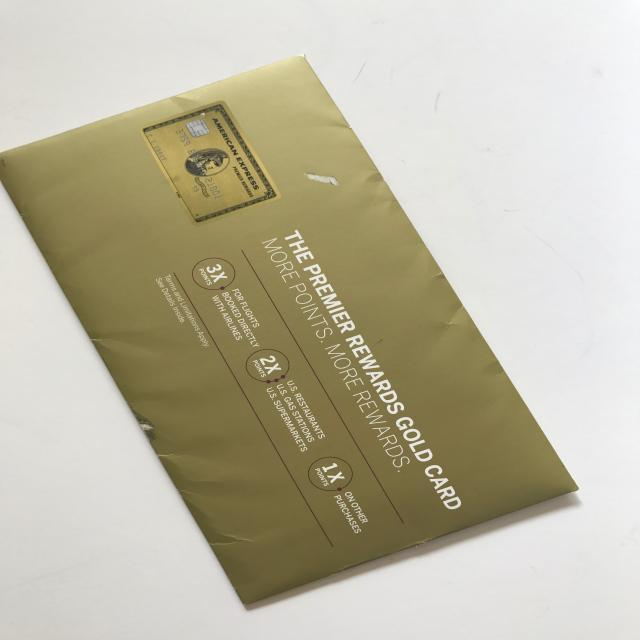paper: (2, 53, 580, 607)
